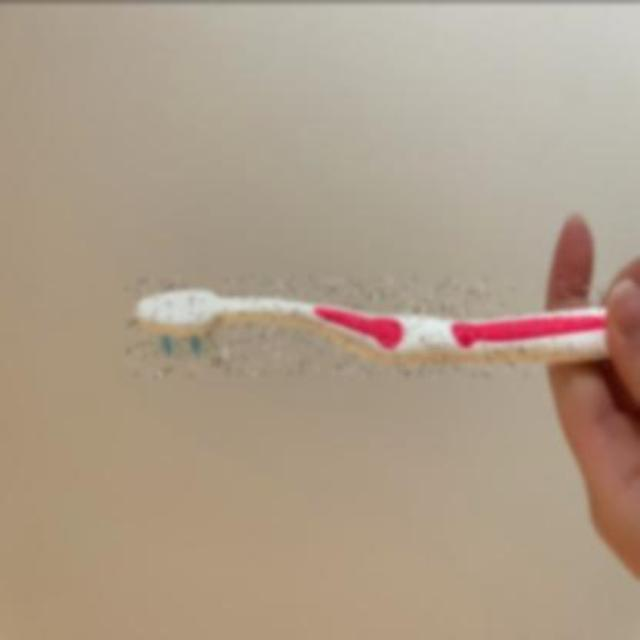toothbrush: (126, 275, 606, 375)
